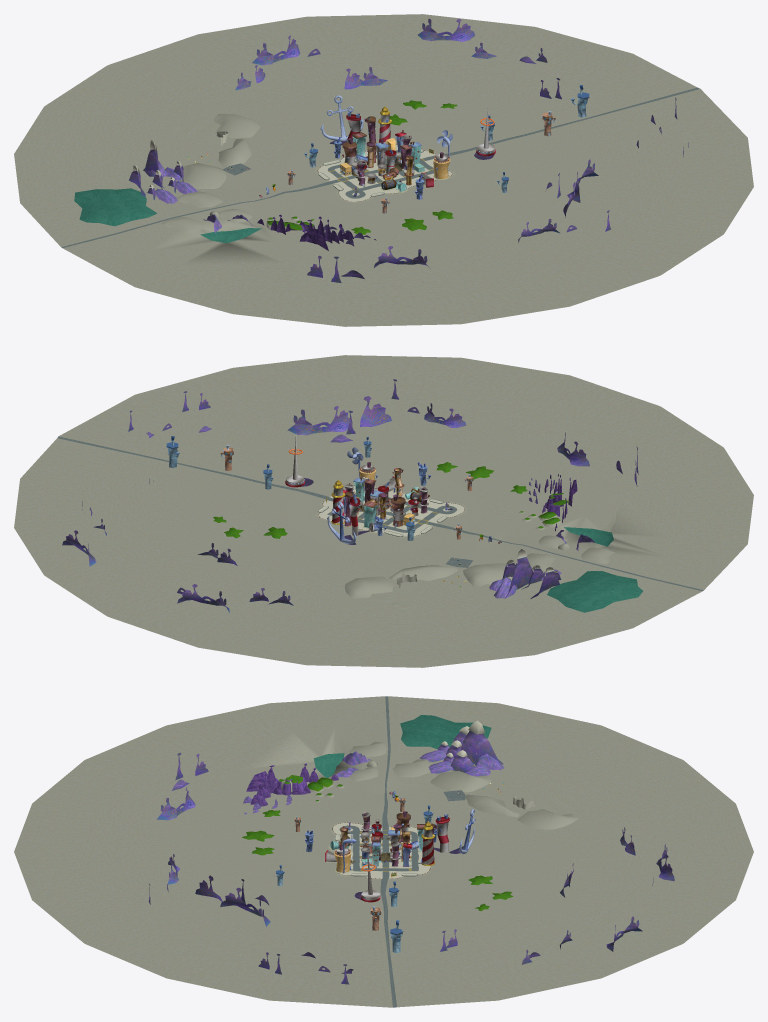
Rendered from town.glb.
3 renders of one model, top to bottom at view 1: azimuth 30°, elevation 25°; view 2: azimuth 150°, elevation 25°; view 3: azimuth 270°, elevation 25°, orthographic.
Parts seen in each view (by area): view 1: Object_348, Object_362, Object_364, Object_454, Object_346, Object_344, Object_358, Object_366, Object_350, Object_514, Object_368, Object_244 (+10 smaller); view 2: Object_348, Object_364, Object_362, Object_454, Object_346, Object_344, Object_358, Object_366, Object_368, Object_244, Object_506, Object_350 (+9 smaller); view 3: Object_348, Object_362, Object_364, Object_454, Object_346, Object_344, Object_358, Object_366, Object_350, Object_354, Object_368, Object_244 (+10 smaller).
Part boxes in pixels (bbox=[...]): Object_348: bbox=[209, 14, 689, 148]; Object_362: bbox=[443, 104, 753, 295]; Object_364: bbox=[63, 184, 510, 326]; Object_454: bbox=[14, 50, 229, 202]; Object_346: bbox=[20, 72, 329, 246]; Object_344: bbox=[372, 194, 569, 312]; Object_358: bbox=[153, 34, 345, 160]; Object_366: bbox=[448, 89, 714, 169]; Object_350: bbox=[427, 179, 592, 303]; Object_514: bbox=[252, 18, 561, 99]; Object_368: bbox=[421, 83, 697, 154]; Object_244: bbox=[74, 188, 157, 226]; Object_348: bbox=[14, 443, 345, 644]; Object_364: bbox=[440, 392, 753, 589]; Object_362: bbox=[83, 355, 531, 486]; Object_454: bbox=[252, 581, 632, 667]; Object_346: bbox=[276, 526, 701, 634]; Object_344: bbox=[425, 375, 600, 501]; Object_358: bbox=[198, 532, 391, 656]; Object_366: bbox=[59, 423, 345, 496]; Object_368: bbox=[53, 438, 324, 508]; Object_244: bbox=[547, 571, 642, 612]; Object_506: bbox=[128, 379, 456, 442]; Object_350: bbox=[375, 371, 558, 487]; Object_348: bbox=[405, 856, 751, 1006]; Object_362: bbox=[20, 868, 363, 1005]; Object_364: bbox=[24, 696, 388, 827]; Object_454: bbox=[482, 703, 744, 827]; Object_346: bbox=[386, 696, 683, 838]; Object_344: bbox=[14, 820, 335, 851]; Object_358: bbox=[433, 826, 753, 851]; Object_366: bbox=[353, 876, 392, 1007]; Object_350: bbox=[16, 857, 336, 868]; Object_354: bbox=[20, 819, 331, 838]; Object_368: bbox=[385, 876, 413, 1007]; Object_244: bbox=[400, 715, 491, 749].
Size of the model in its own units: 925 by 89.46 by 929.
Materials: 54 (49 with a texture image).
